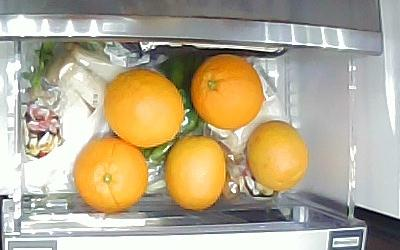orange: (103, 68, 185, 150), (190, 53, 263, 131), (74, 139, 146, 213), (246, 120, 309, 194), (166, 135, 226, 212)
